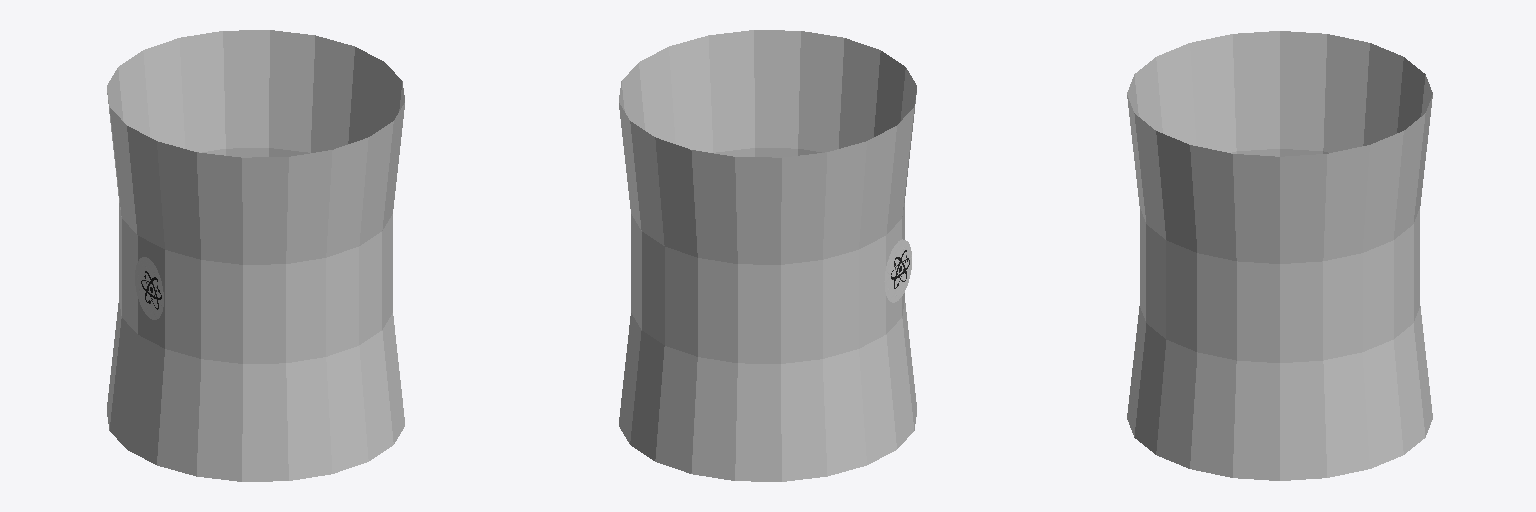
3 views of the same model, side by side, from view 1: azimuth 30°, elevation 25°; view 2: azimuth 150°, elevation 25°; view 3: azimuth 270°, elevation 25° (orthographic).
Bounding box in the file's own units: 1047 × 1257 × 1075.
2 materials, 1 textured.